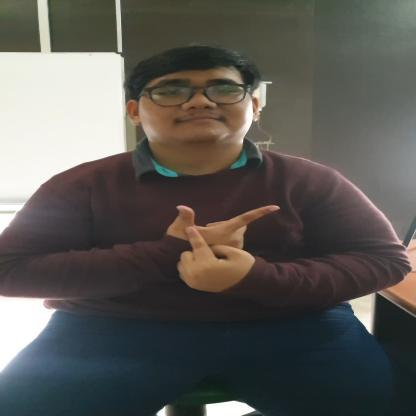Y: (168, 204, 284, 298)
